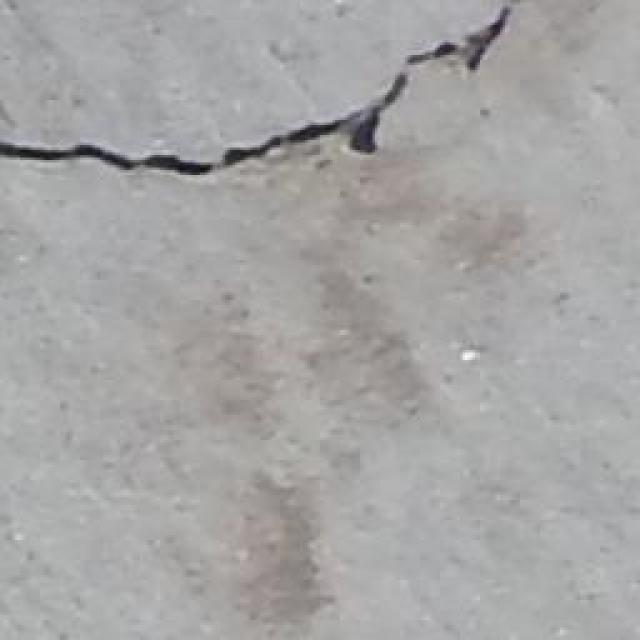concrete-crack: (0, 0, 529, 189)
